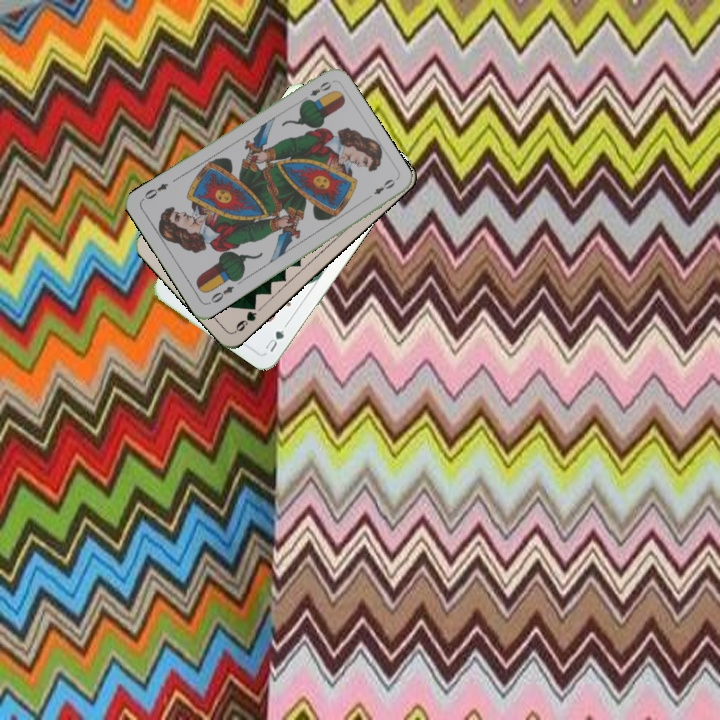EO: (298, 77, 334, 105), (204, 282, 237, 307)
G9: (231, 299, 259, 335)
GU: (261, 325, 287, 355)
